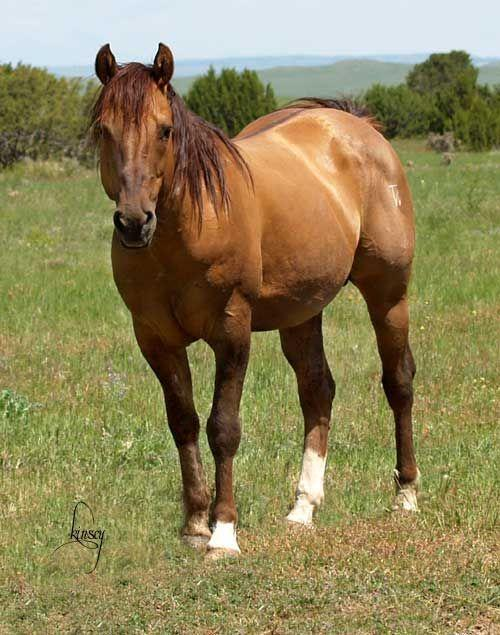horse: (74, 36, 432, 566)
